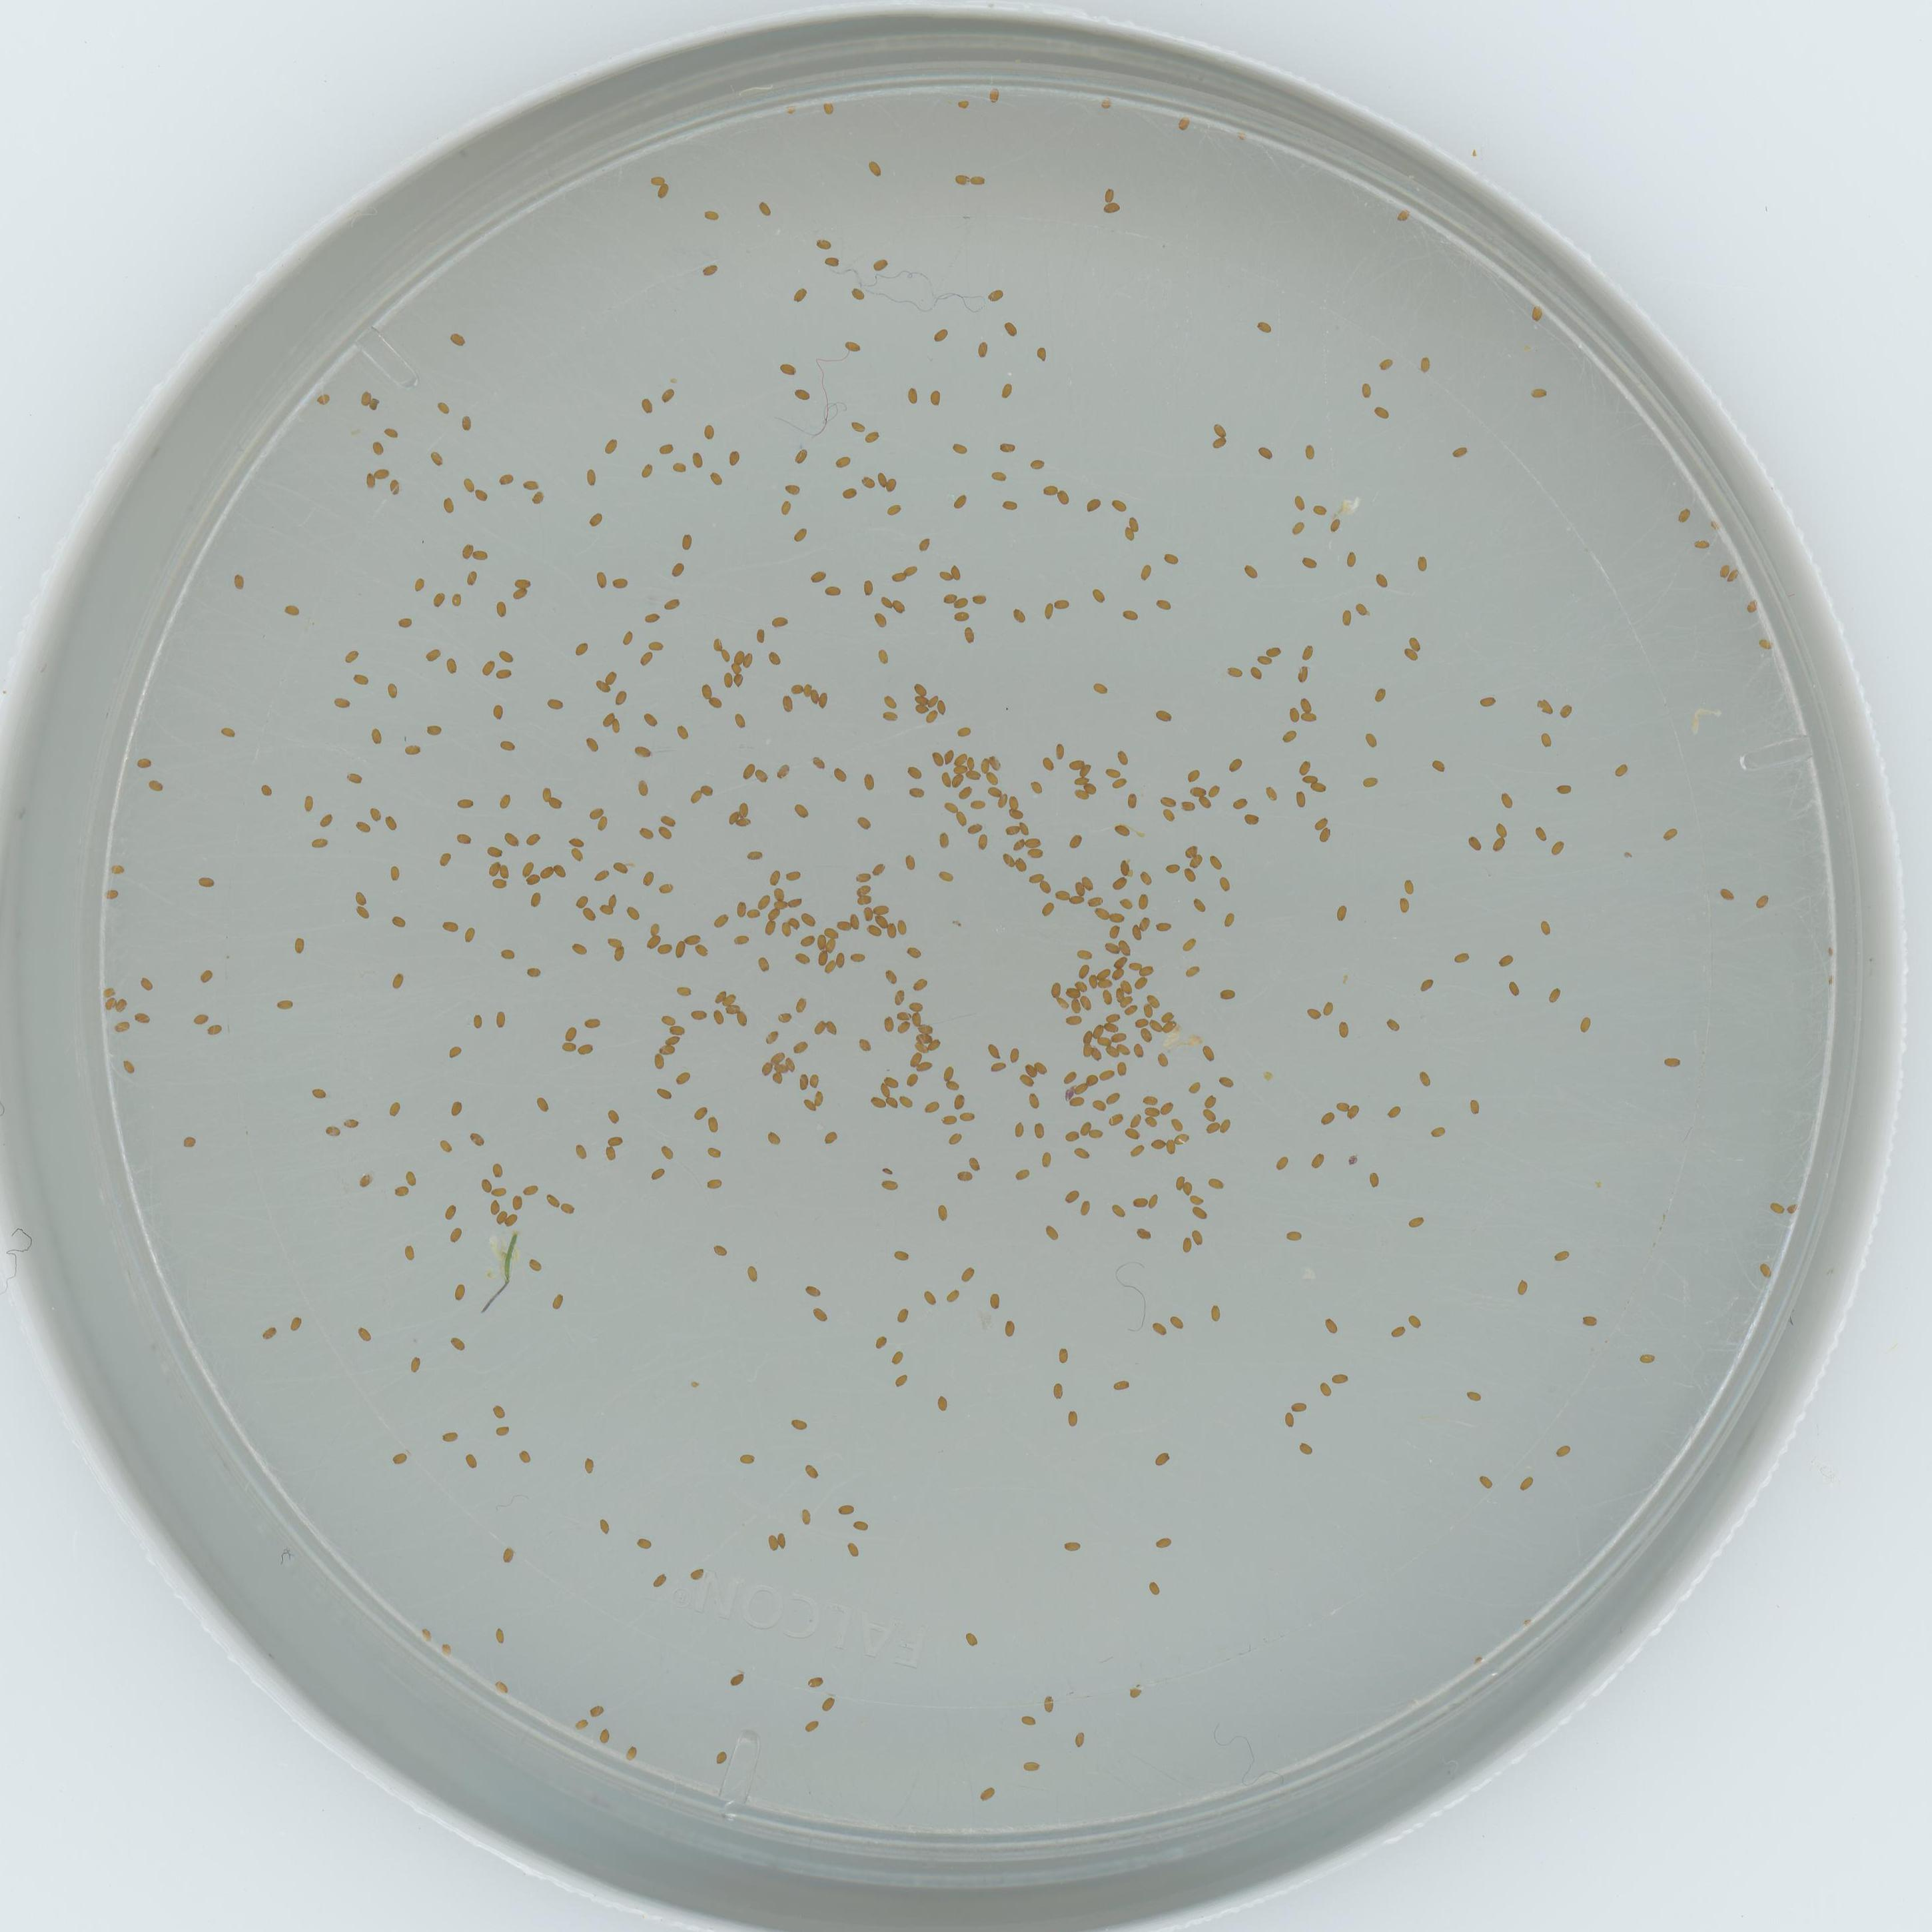seed: (1196, 1042, 1217, 1063), (1536, 697, 1555, 717), (1070, 1729, 1086, 1752), (725, 449, 745, 467), (593, 570, 610, 589), (754, 954, 771, 973), (449, 1281, 467, 1300), (1083, 495, 1102, 513), (1001, 318, 1019, 338), (1106, 908, 1125, 925), (959, 626, 977, 646), (1332, 1021, 1352, 1039), (1100, 200, 1122, 216), (492, 600, 510, 617), (442, 656, 460, 674), (479, 658, 497, 676), (499, 736, 517, 754), (582, 469, 600, 487), (584, 736, 602, 754), (936, 771, 954, 789), (448, 329, 465, 347), (708, 469, 725, 487), (862, 773, 879, 791), (793, 446, 810, 464), (366, 727, 384, 745), (805, 1281, 823, 1299), (893, 1306, 911, 1323), (904, 1069, 922, 1086), (405, 1355, 423, 1373), (449, 1334, 467, 1352), (580, 1456, 598, 1474), (948, 1092, 966, 1109), (924, 1095, 941, 1113), (446, 1226, 464, 1244), (1039, 479, 1056, 497), (1037, 901, 1054, 918), (1453, 947, 1470, 964), (1226, 757, 1244, 775), (1371, 402, 1389, 419), (1134, 893, 1152, 911), (1122, 793, 1139, 810), (1207, 853, 1224, 870), (1242, 563, 1260, 580), (1111, 821, 1129, 839), (1465, 833, 1483, 851), (1152, 1449, 1169, 1467), (1417, 1070, 1435, 1088), (1000, 1318, 1017, 1336), (1062, 1408, 1079, 1426), (1024, 1092, 1042, 1109), (1330, 1368, 1348, 1385), (1322, 1316, 1339, 1334), (985, 1292, 1003, 1309), (1364, 1169, 1382, 1187), (1047, 1382, 1065, 1399), (1125, 1111, 1143, 1129), (959, 1265, 977, 1283), (978, 1783, 996, 1801), (1394, 207, 1412, 225), (819, 99, 837, 117), (315, 391, 333, 409), (610, 573, 630, 589), (711, 913, 731, 929), (793, 948, 812, 964), (655, 1083, 674, 1099), (881, 1177, 901, 1192), (1230, 794, 1249, 810), (1497, 793, 1516, 809), (1049, 888, 1069, 904), (1099, 939, 1118, 955), (1157, 793, 1177, 809), (1106, 1109, 1125, 1125), (1023, 1759, 1042, 1775), (386, 478, 402, 497), (1040, 1691, 1054, 1713), (1173, 119, 1194, 133), (798, 1070, 810, 1093), (352, 890, 370, 906), (497, 648, 515, 663), (485, 844, 502, 860), (740, 763, 755, 780), (425, 720, 442, 736), (639, 396, 656, 412), (439, 497, 456, 513), (570, 939, 587, 955), (849, 947, 867, 962), (865, 428, 883, 444), (633, 743, 651, 759), (456, 830, 472, 847), (780, 359, 798, 375), (872, 612, 890, 628), (502, 832, 520, 847), (386, 867, 403, 883), (441, 916, 458, 932), (842, 483, 860, 499), (892, 600, 909, 616), (456, 794, 474, 810), (587, 510, 605, 525), (688, 451, 706, 467), (856, 816, 874, 832), (522, 476, 540, 492), (862, 579, 878, 596), (520, 860, 536, 878), (524, 832, 541, 847), (927, 389, 945, 405), (683, 929, 701, 945), (425, 646, 442, 662), (382, 816, 400, 832), (625, 904, 642, 920), (658, 441, 676, 456), (927, 750, 945, 766), (757, 200, 775, 216), (832, 766, 849, 782), (639, 462, 656, 478), (389, 911, 405, 929), (793, 386, 810, 402), (499, 945, 517, 961), (612, 690, 630, 706), (855, 869, 872, 885), (784, 479, 801, 495), (497, 794, 513, 812), (766, 651, 784, 667), (812, 566, 828, 584), (780, 695, 798, 711), (644, 610, 662, 626), (639, 872, 656, 888), (906, 764, 924, 780), (602, 437, 619, 453), (637, 651, 655, 667), (679, 533, 695, 550), (642, 713, 660, 729), (290, 936, 308, 952), (669, 561, 686, 577), (771, 614, 789, 630), (403, 741, 421, 757), (497, 665, 513, 683), (310, 837, 327, 853), (663, 594, 679, 612), (352, 671, 370, 686), (950, 439, 966, 456), (844, 338, 862, 354), (456, 543, 474, 559), (573, 640, 591, 656), (513, 573, 531, 589), (793, 803, 810, 819), (147, 778, 165, 794), (317, 812, 334, 828), (860, 474, 878, 490), (777, 499, 794, 515), (824, 584, 842, 600), (775, 764, 793, 780), (299, 796, 317, 812), (364, 807, 382, 823), (747, 847, 764, 863), (656, 941, 674, 957), (952, 771, 968, 789), (936, 869, 954, 885), (955, 724, 973, 740), (469, 1012, 487, 1028), (803, 1463, 821, 1479), (690, 1005, 708, 1021), (791, 1415, 809, 1431), (690, 1564, 706, 1582), (839, 1500, 856, 1516), (649, 1164, 667, 1180), (635, 1536, 653, 1552), (674, 1069, 692, 1085), (934, 1394, 950, 1412), (888, 1348, 906, 1364), (391, 1451, 409, 1467), (490, 1403, 508, 1419), (810, 1019, 826, 1037), (559, 1198, 577, 1214), (658, 1143, 676, 1159), (793, 1037, 810, 1053), (488, 1162, 506, 1178), (812, 1306, 830, 1322), (941, 1111, 959, 1127), (400, 1244, 418, 1260), (534, 1097, 552, 1113), (577, 1039, 594, 1054), (899, 1093, 916, 1109), (922, 1290, 939, 1306), (492, 1012, 510, 1028), (402, 1168, 418, 1185), (545, 1192, 563, 1208), (653, 1571, 669, 1589), (605, 1109, 623, 1125), (651, 1053, 669, 1069), (694, 1102, 709, 1120), (478, 1178, 495, 1194), (527, 1254, 543, 1272), (706, 1116, 724, 1132), (310, 1083, 327, 1099), (731, 1670, 747, 1688), (354, 1325, 372, 1341), (821, 1695, 837, 1713), (885, 1070, 902, 1086), (1136, 564, 1154, 580), (1154, 708, 1171, 724), (1189, 897, 1207, 913), (1532, 826, 1550, 842), (1299, 644, 1316, 660), (1254, 317, 1272, 333), (998, 439, 1016, 455), (1242, 812, 1260, 828), (1256, 446, 1274, 462), (1557, 702, 1575, 718), (1161, 550, 1178, 566), (1491, 823, 1509, 839), (1295, 759, 1313, 775), (1065, 833, 1083, 849), (1178, 798, 1196, 814), (1088, 587, 1106, 603), (1028, 455, 1044, 472), (1292, 793, 1309, 809), (1109, 497, 1127, 513), (1399, 879, 1417, 895), (1113, 750, 1131, 766), (998, 380, 1014, 398), (1394, 897, 1412, 913), (1120, 607, 1138, 623), (1053, 594, 1070, 610), (1720, 885, 1736, 902), (1753, 893, 1771, 909), (1311, 501, 1329, 517), (1180, 869, 1198, 885), (1210, 421, 1228, 437), (1341, 550, 1359, 566), (1311, 814, 1329, 830), (1451, 442, 1468, 458), (1550, 840, 1568, 856), (1357, 380, 1373, 398), (1092, 906, 1109, 922), (1479, 692, 1497, 708), (1530, 384, 1546, 402), (1281, 729, 1299, 745), (1104, 924, 1122, 939), (1024, 847, 1042, 863), (1417, 356, 1433, 373), (1325, 517, 1343, 533), (1178, 936, 1196, 952), (1332, 906, 1350, 922), (1116, 895, 1134, 911), (1362, 773, 1378, 791), (1109, 878, 1127, 893), (1118, 939, 1136, 955), (1123, 1125, 1141, 1141), (1005, 1047, 1023, 1063), (1189, 1205, 1207, 1221), (1139, 1088, 1157, 1104), (984, 1042, 1001, 1058), (1154, 1534, 1171, 1550), (1072, 1145, 1090, 1161), (1104, 1088, 1122, 1104), (1290, 1398, 1307, 1414), (1555, 1444, 1573, 1460), (1467, 1097, 1484, 1113), (1148, 1134, 1166, 1150), (1389, 1322, 1407, 1338), (1150, 1320, 1168, 1336), (1086, 1125, 1104, 1141), (1062, 1187, 1079, 1203), (1513, 1279, 1530, 1295), (1553, 1247, 1571, 1263), (1318, 1109, 1336, 1125), (1663, 1051, 1681, 1067), (1309, 1155, 1327, 1171), (1284, 1226, 1302, 1242), (989, 1058, 1007, 1074), (1132, 1042, 1148, 1060), (1345, 1104, 1362, 1120), (1785, 1200, 1801, 1217), (1529, 304, 1546, 320), (809, 1675, 826, 1691), (977, 755, 993, 773), (985, 88, 1003, 104), (782, 101, 798, 119), (589, 1702, 605, 1720), (467, 1131, 485, 1146), (326, 1123, 343, 1139), (464, 570, 479, 587), (448, 593, 465, 609), (529, 490, 547, 506), (260, 1325, 278, 1341), (205, 1021, 223, 1037), (115, 998, 133, 1014), (101, 996, 119, 1012), (835, 950, 849, 970), (798, 932, 817, 947), (672, 725, 692, 740), (1111, 955, 1131, 970), (1219, 1116, 1233, 1136), (1069, 996, 1083, 1016), (888, 502, 904, 518), (699, 683, 715, 699), (649, 637, 665, 653), (639, 826, 655, 842), (660, 387, 676, 403), (283, 602, 299, 617), (593, 869, 609, 885), (878, 648, 893, 663), (950, 494, 966, 510), (384, 683, 400, 699), (671, 458, 686, 474), (343, 648, 359, 663), (573, 893, 589, 909), (430, 591, 446, 607), (902, 855, 918, 870), (904, 387, 920, 403), (701, 423, 717, 439), (458, 414, 474, 430), (396, 614, 412, 630), (460, 476, 476, 492), (732, 901, 748, 916), (598, 713, 614, 729), (885, 924, 901, 939), (934, 327, 950, 343), (883, 694, 899, 709), (548, 796, 564, 812), (257, 782, 272, 798), (793, 525, 809, 541), (472, 547, 488, 563), (911, 679, 927, 695), (732, 713, 748, 729), (435, 400, 451, 416), (948, 564, 964, 580), (755, 893, 771, 909), (587, 803, 603, 819), (892, 570, 908, 586), (936, 833, 952, 849), (384, 425, 400, 441), (904, 561, 920, 577), (410, 577, 426, 593), (219, 724, 235, 740), (872, 862, 888, 878), (462, 925, 478, 941), (909, 786, 925, 801), (368, 441, 384, 456), (755, 768, 771, 784), (699, 782, 715, 798), (492, 878, 508, 893), (635, 780, 651, 796), (674, 941, 690, 957), (492, 704, 508, 720), (230, 573, 246, 589), (734, 931, 750, 947), (738, 801, 754, 817), (612, 860, 628, 876), (548, 695, 564, 711), (702, 260, 718, 276), (655, 184, 671, 200), (954, 170, 970, 186), (754, 628, 770, 644), (853, 418, 869, 433), (867, 161, 883, 177), (552, 863, 568, 879), (596, 817, 612, 833), (612, 947, 628, 962), (540, 786, 556, 801), (837, 916, 853, 932), (947, 1131, 962, 1146), (389, 971, 405, 987), (908, 996, 924, 1012), (881, 1016, 897, 1031), (191, 1010, 207, 1026), (805, 1718, 821, 1734), (708, 1173, 724, 1189), (713, 1240, 729, 1256), (596, 1518, 612, 1534), (462, 1453, 478, 1468), (846, 1541, 862, 1557), (934, 1203, 950, 1219), (893, 1246, 909, 1261), (874, 1334, 890, 1350), (766, 1129, 782, 1145), (524, 1180, 540, 1196), (945, 1286, 961, 1302), (515, 1447, 531, 1463), (798, 1509, 814, 1525), (893, 1371, 909, 1387), (885, 968, 901, 984), (510, 1192, 525, 1208), (602, 1145, 617, 1161), (596, 1727, 612, 1743), (386, 1100, 402, 1116), (492, 1208, 508, 1224), (745, 1265, 761, 1281), (740, 1451, 755, 1467), (550, 1293, 566, 1309), (437, 1136, 453, 1152), (575, 1145, 591, 1161), (287, 1316, 303, 1332), (180, 1132, 196, 1148), (492, 1628, 508, 1644), (448, 1100, 464, 1116), (771, 1047, 787, 1063), (715, 1748, 731, 1764), (885, 1093, 901, 1109), (1247, 665, 1263, 681), (1290, 520, 1306, 536), (1263, 786, 1279, 801), (1555, 780, 1571, 796), (1001, 497, 1017, 513), (1226, 663, 1242, 679), (991, 467, 1007, 483), (1207, 782, 1223, 798), (1430, 759, 1445, 775), (1265, 642, 1281, 658), (1155, 596, 1171, 612), (1286, 708, 1302, 724), (1537, 731, 1553, 747), (1051, 743, 1067, 759), (1338, 609, 1353, 625), (987, 287, 1003, 303), (1090, 679, 1106, 695), (1221, 911, 1237, 927), (970, 591, 985, 607), (1136, 870, 1152, 886), (1499, 952, 1514, 968), (1300, 552, 1316, 568), (1316, 828, 1332, 844), (1010, 607, 1026, 623), (1215, 878, 1231, 893), (1373, 686, 1389, 702), (1054, 488, 1070, 504), (1373, 571, 1389, 587), (1033, 345, 1049, 361), (1537, 920, 1553, 936), (1661, 826, 1677, 842), (1300, 442, 1316, 458), (1414, 556, 1430, 571), (1293, 667, 1309, 683), (966, 821, 982, 837), (1077, 947, 1093, 962), (1115, 860, 1131, 876), (1000, 853, 1016, 869), (1039, 755, 1054, 771), (1196, 796, 1212, 812), (1039, 603, 1054, 619), (1005, 793, 1021, 809), (984, 771, 1000, 787), (1129, 1141, 1145, 1157), (1219, 985, 1235, 1001), (1090, 1095, 1106, 1111), (1109, 1201, 1125, 1217), (1385, 1102, 1401, 1118), (1177, 1237, 1192, 1253), (1104, 1007, 1120, 1023), (1062, 1069, 1077, 1085), (1168, 1313, 1184, 1329), (1384, 1016, 1399, 1031), (1207, 1304, 1223, 1320), (1132, 1192, 1148, 1208), (1430, 1122, 1445, 1138), (1578, 1016, 1594, 1031), (1010, 1120, 1026, 1136), (1019, 1713, 1035, 1729), (1185, 1077, 1201, 1093), (1031, 1123, 1047, 1139), (1217, 1072, 1233, 1088), (1207, 1175, 1223, 1191), (1014, 1164, 1030, 1180), (1037, 1152, 1053, 1168), (1146, 1194, 1162, 1210), (1506, 980, 1522, 996), (1044, 1224, 1060, 1240), (1518, 1476, 1534, 1491), (1297, 1440, 1313, 1456), (1546, 987, 1562, 1003), (1479, 1474, 1495, 1490), (1274, 1154, 1290, 1169), (1582, 1311, 1598, 1327), (1408, 1212, 1424, 1228), (1334, 1095, 1350, 1111), (1053, 1346, 1069, 1362), (1189, 1228, 1205, 1244), (1077, 1200, 1093, 1215), (1115, 1062, 1131, 1077), (1063, 1537, 1079, 1553), (1132, 975, 1148, 991), (1146, 993, 1162, 1008), (1079, 1042, 1095, 1058), (1088, 1046, 1104, 1062), (1769, 1198, 1785, 1214), (1757, 1263, 1773, 1279), (1759, 635, 1775, 651), (1743, 598, 1759, 614), (1695, 536, 1711, 552), (1675, 508, 1691, 524), (1707, 517, 1723, 533), (890, 991, 906, 1007), (955, 96, 971, 111), (439, 1642, 455, 1658), (419, 1628, 435, 1644), (501, 1548, 517, 1564), (359, 1173, 375, 1189), (343, 1115, 359, 1131), (134, 1010, 150, 1026), (108, 862, 124, 878), (333, 695, 350, 709), (764, 920, 778, 938), (198, 874, 216, 888), (915, 538, 932, 552), (354, 906, 372, 920), (568, 833, 586, 847), (580, 908, 598, 922), (793, 287, 810, 301), (644, 934, 662, 948), (472, 488, 490, 502), (619, 632, 637, 646), (598, 904, 616, 918), (694, 943, 711, 957), (787, 895, 805, 909), (561, 1026, 579, 1040), (660, 1012, 678, 1026), (824, 1021, 842, 1035), (582, 1014, 600, 1028), (711, 1008, 725, 1026), (442, 1207, 460, 1221), (607, 1131, 625, 1145), (276, 996, 294, 1010), (441, 1428, 458, 1442), (911, 977, 929, 991), (506, 1210, 520, 1228), (764, 1532, 778, 1550), (869, 1093, 886, 1108), (669, 1021, 686, 1035), (1154, 918, 1171, 932), (977, 340, 991, 357), (1376, 356, 1394, 370), (1024, 835, 1042, 849), (1490, 839, 1507, 853), (1024, 870, 1042, 885), (1159, 810, 1177, 824), (1254, 653, 1272, 667), (1085, 893, 1102, 908), (1065, 757, 1083, 771), (1162, 862, 1180, 876), (1405, 635, 1422, 649), (1208, 435, 1226, 449), (1035, 881, 1053, 895), (1309, 780, 1327, 794), (1102, 764, 1120, 778), (989, 754, 1003, 771), (1201, 1108, 1219, 1122), (1111, 1376, 1129, 1391), (1062, 1127, 1079, 1141), (1065, 1012, 1083, 1026), (1166, 1115, 1184, 1129), (1187, 1191, 1205, 1205), (1407, 1315, 1424, 1329), (1099, 1067, 1116, 1081), (955, 1168, 973, 1182), (1173, 1131, 1191, 1145), (1120, 977, 1134, 994), (1638, 1352, 1656, 1366), (1129, 1683, 1143, 1700), (494, 1679, 508, 1697), (497, 472, 515, 487), (428, 451, 446, 465), (103, 888, 120, 902), (952, 610, 971, 623), (724, 1003, 743, 1016), (1300, 773, 1320, 786), (1079, 993, 1092, 1012), (817, 235, 832, 251), (766, 906, 782, 920), (361, 472, 377, 487), (812, 755, 828, 770), (527, 893, 543, 908), (658, 881, 674, 895), (941, 589, 955, 605), (874, 901, 890, 915), (354, 819, 370, 833), (660, 812, 676, 826), (787, 869, 801, 885), (437, 853, 453, 867), (872, 258, 888, 272), (906, 945, 922, 959), (605, 893, 621, 908), (895, 920, 909, 936), (817, 950, 833, 964), (487, 862, 501, 878), (801, 911, 817, 925), (646, 922, 662, 936), (375, 465, 391, 479), (570, 849, 586, 863), (540, 863, 554, 879), (768, 870, 784, 885), (709, 635, 724, 651), (883, 709, 899, 724), (771, 885, 786, 901), (879, 594, 895, 609), (708, 695, 724, 709), (345, 771, 361, 786), (886, 476, 901, 492), (837, 453, 851, 469), (851, 285, 867, 299), (702, 207, 718, 221), (874, 471, 888, 487), (134, 755, 150, 770), (357, 391, 372, 407), (943, 800, 957, 816), (720, 672, 734, 688), (787, 915, 803, 929), (778, 924, 794, 938), (610, 718, 625, 734), (817, 694, 832, 709), (688, 791, 704, 805), (955, 594, 970, 610), (824, 924, 840, 938), (651, 172, 667, 186), (952, 752, 968, 766), (448, 1042, 462, 1058), (736, 1012, 752, 1026), (918, 1058, 934, 1072), (777, 1532, 791, 1548), (855, 1518, 870, 1532), (794, 998, 810, 1012), (525, 966, 541, 980), (138, 977, 154, 991), (393, 1184, 409, 1198), (494, 1422, 510, 1437), (858, 1037, 874, 1051), (198, 970, 214, 984), (708, 1143, 724, 1157), (814, 1090, 828, 1106), (561, 1039, 577, 1053), (906, 1051, 922, 1065), (492, 1184, 508, 1198), (759, 1060, 775, 1074), (823, 1127, 839, 1141), (927, 1037, 943, 1051), (120, 1060, 136, 1074), (1292, 495, 1307, 510), (1008, 839, 1023, 855), (1352, 602, 1368, 616), (1185, 768, 1201, 782), (1099, 188, 1115, 202), (1191, 784, 1207, 798), (1362, 732, 1378, 747), (1299, 695, 1313, 711), (1136, 916, 1152, 931), (1614, 763, 1629, 777), (1012, 860, 1028, 874), (1028, 780, 1042, 796), (1401, 649, 1417, 663), (970, 798, 985, 812), (1007, 807, 1023, 821), (1067, 893, 1083, 908), (985, 786, 1001, 800), (1300, 711, 1316, 725), (977, 833, 991, 849), (1081, 876, 1095, 892), (1003, 823, 1019, 837), (1083, 782, 1099, 796), (1184, 842, 1198, 858), (970, 172, 985, 186), (1016, 821, 1031, 835), (1201, 1092, 1217, 1106), (1281, 1412, 1297, 1426), (1304, 1007, 1320, 1021), (1419, 977, 1433, 993), (1085, 1072, 1099, 1088), (1145, 1582, 1161, 1596), (1316, 1382, 1332, 1396), (1047, 982, 1062, 998), (1134, 1224, 1150, 1238), (1203, 1120, 1219, 1134), (1159, 1008, 1175, 1023), (1155, 1053, 1171, 1067), (1033, 1062, 1049, 1076), (1159, 1099, 1175, 1113), (1184, 966, 1200, 980), (1467, 1387, 1483, 1401), (1139, 1026, 1154, 1042), (1182, 1182, 1198, 1196), (1077, 1120, 1093, 1134), (1148, 1017, 1162, 1033), (1023, 1063, 1039, 1077), (1139, 1003, 1155, 1017), (1079, 1028, 1093, 1044), (1109, 966, 1125, 980), (1162, 1139, 1178, 1154), (1095, 966, 1111, 980), (1079, 764, 1093, 780), (1727, 568, 1743, 582), (1716, 564, 1732, 579), (895, 1008, 911, 1023), (913, 1040, 929, 1054), (824, 253, 839, 269), (625, 1746, 639, 1762), (573, 1716, 587, 1732), (113, 1019, 129, 1033), (101, 985, 117, 1000), (945, 748, 957, 766), (525, 874, 543, 886), (594, 681, 612, 694), (856, 885, 874, 897), (488, 1198, 501, 1215), (1129, 515, 1141, 533), (1072, 1083, 1090, 1095), (1173, 1173, 1185, 1191), (1100, 987, 1113, 1005), (916, 1031, 934, 1044), (952, 764, 970, 777), (1070, 775, 1090, 786), (1138, 964, 1157, 975), (720, 994, 740, 1005), (747, 908, 761, 922), (789, 681, 803, 695), (658, 828, 672, 842), (499, 865, 513, 879), (605, 669, 619, 683), (925, 711, 939, 725), (867, 924, 881, 938), (936, 568, 950, 582), (849, 916, 863, 931), (826, 939, 840, 954), (366, 396, 380, 410), (678, 984, 692, 998), (784, 1058, 798, 1072), (941, 1065, 955, 1079), (803, 1097, 817, 1111), (1189, 855, 1203, 869), (1120, 527, 1134, 541), (1322, 1001, 1336, 1016), (966, 1631, 980, 1645), (1143, 1115, 1157, 1129), (968, 1155, 982, 1169), (1099, 96, 1113, 110), (605, 934, 621, 947), (511, 589, 527, 602), (734, 672, 747, 688), (913, 702, 929, 715), (736, 819, 752, 832), (809, 1072, 821, 1088), (771, 1070, 787, 1083), (895, 1021, 911, 1033), (918, 1021, 934, 1033), (1109, 778, 1125, 791), (966, 770, 982, 782), (1129, 924, 1141, 939), (1072, 879, 1085, 895), (1072, 791, 1088, 803), (1069, 1095, 1085, 1108), (1111, 1031, 1127, 1044), (1162, 1021, 1178, 1033), (1134, 1017, 1150, 1030), (1063, 985, 1079, 998), (1115, 1044, 1131, 1056), (1104, 1044, 1120, 1056), (824, 959, 837, 975), (660, 1046, 678, 1056), (665, 1037, 683, 1047), (874, 916, 888, 929), (720, 648, 732, 662), (862, 906, 874, 920), (936, 699, 948, 713), (725, 812, 740, 824), (957, 786, 971, 798), (817, 934, 830, 948), (945, 1077, 959, 1090), (911, 1012, 924, 1026), (713, 989, 725, 1003), (994, 794, 1007, 809), (1143, 1104, 1157, 1116), (1054, 994, 1067, 1008), (1019, 1074, 1033, 1086), (1077, 966, 1092, 978), (1092, 1024, 1104, 1039), (1074, 980, 1088, 993), (915, 694, 929, 706), (745, 653, 755, 669), (858, 893, 874, 904), (879, 1079, 890, 1095), (966, 754, 977, 770), (1123, 1005, 1139, 1016), (1104, 1023, 1120, 1033), (1095, 1035, 1111, 1046), (1097, 978, 1113, 989), (771, 899, 787, 909), (810, 688, 821, 704), (1127, 962, 1145, 971), (731, 662, 743, 674), (1120, 996, 1132, 1008), (927, 695, 939, 708), (955, 812, 966, 826), (1088, 975, 1099, 989), (801, 683, 812, 697), (957, 1106, 966, 1122), (1116, 987, 1125, 1003), (1111, 968, 1127, 977), (734, 649, 743, 663), (826, 938, 835, 952)
